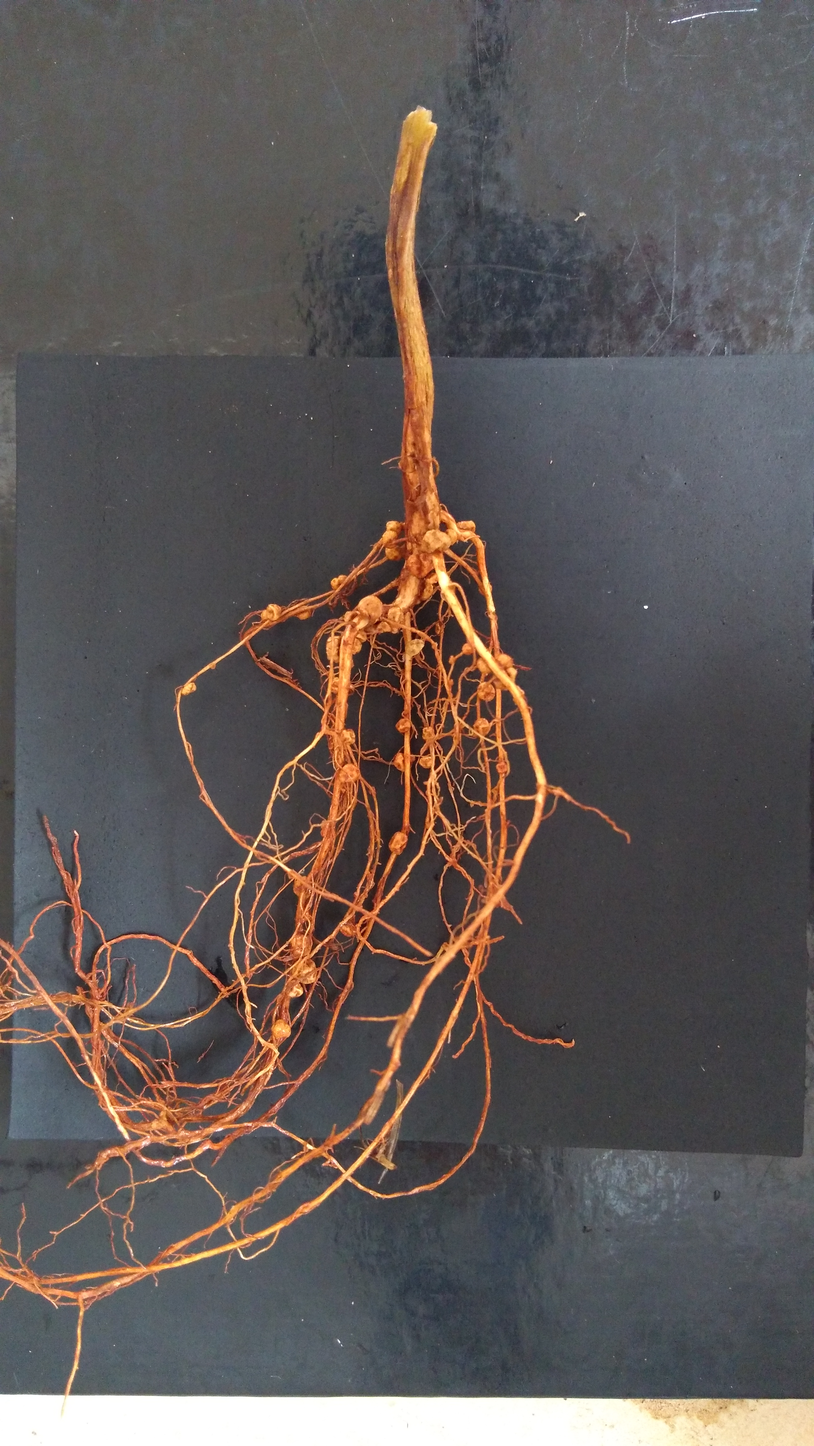nodule: (420, 529, 451, 553), (291, 956, 317, 984), (407, 553, 436, 578), (357, 595, 382, 618), (289, 931, 311, 957), (387, 606, 405, 633), (330, 676, 355, 695), (343, 610, 369, 628), (325, 635, 341, 664), (388, 831, 407, 855), (271, 1018, 292, 1039), (457, 520, 476, 542), (338, 763, 360, 782), (293, 875, 311, 898), (472, 718, 491, 737), (271, 1004, 289, 1022), (150, 1110, 166, 1130), (260, 609, 274, 631), (405, 639, 423, 656), (338, 728, 355, 746), (382, 530, 398, 549), (340, 918, 356, 937), (287, 980, 303, 998), (331, 575, 349, 590), (419, 581, 433, 600), (295, 604, 311, 620), (267, 604, 282, 621), (384, 546, 402, 560), (398, 457, 414, 472), (393, 753, 405, 772), (386, 520, 401, 535), (478, 581, 493, 595), (395, 719, 411, 732), (445, 529, 457, 546), (300, 906, 312, 923), (364, 623, 384, 633), (351, 637, 362, 655), (419, 756, 435, 768), (422, 726, 435, 740), (376, 621, 392, 632), (354, 629, 367, 642), (423, 572, 438, 583), (320, 819, 329, 836), (461, 643, 473, 655), (496, 761, 508, 773), (435, 622, 444, 636), (400, 568, 409, 580), (406, 541, 417, 550), (367, 809, 375, 819), (288, 870, 296, 880), (425, 820, 433, 829), (368, 785, 375, 795), (431, 642, 438, 650), (409, 753, 416, 761), (400, 652, 406, 661), (449, 655, 454, 665), (414, 597, 421, 604), (329, 741, 334, 750), (448, 678, 454, 685), (400, 669, 406, 675), (469, 800, 474, 807), (437, 665, 442, 670), (371, 644, 377, 648), (441, 697, 447, 700), (423, 781, 428, 784)
